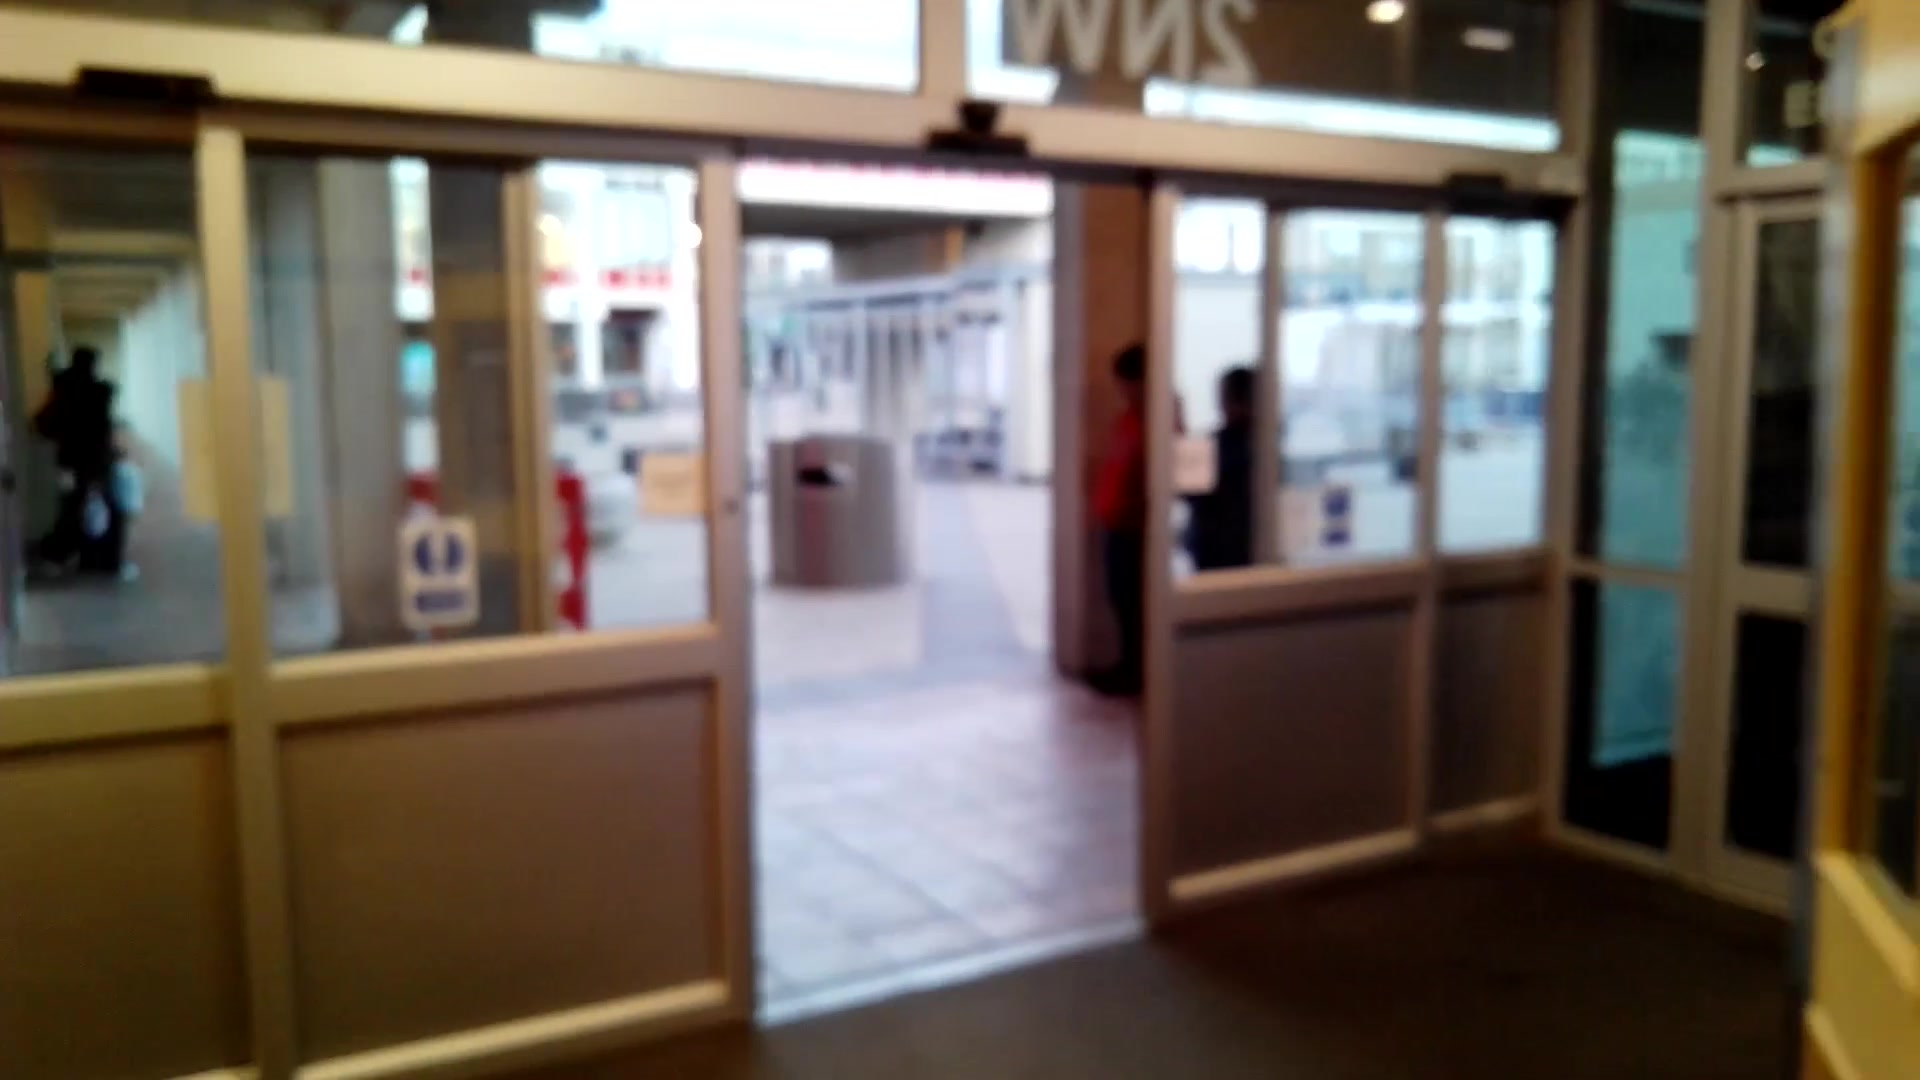Bin: (756, 423, 905, 603)
